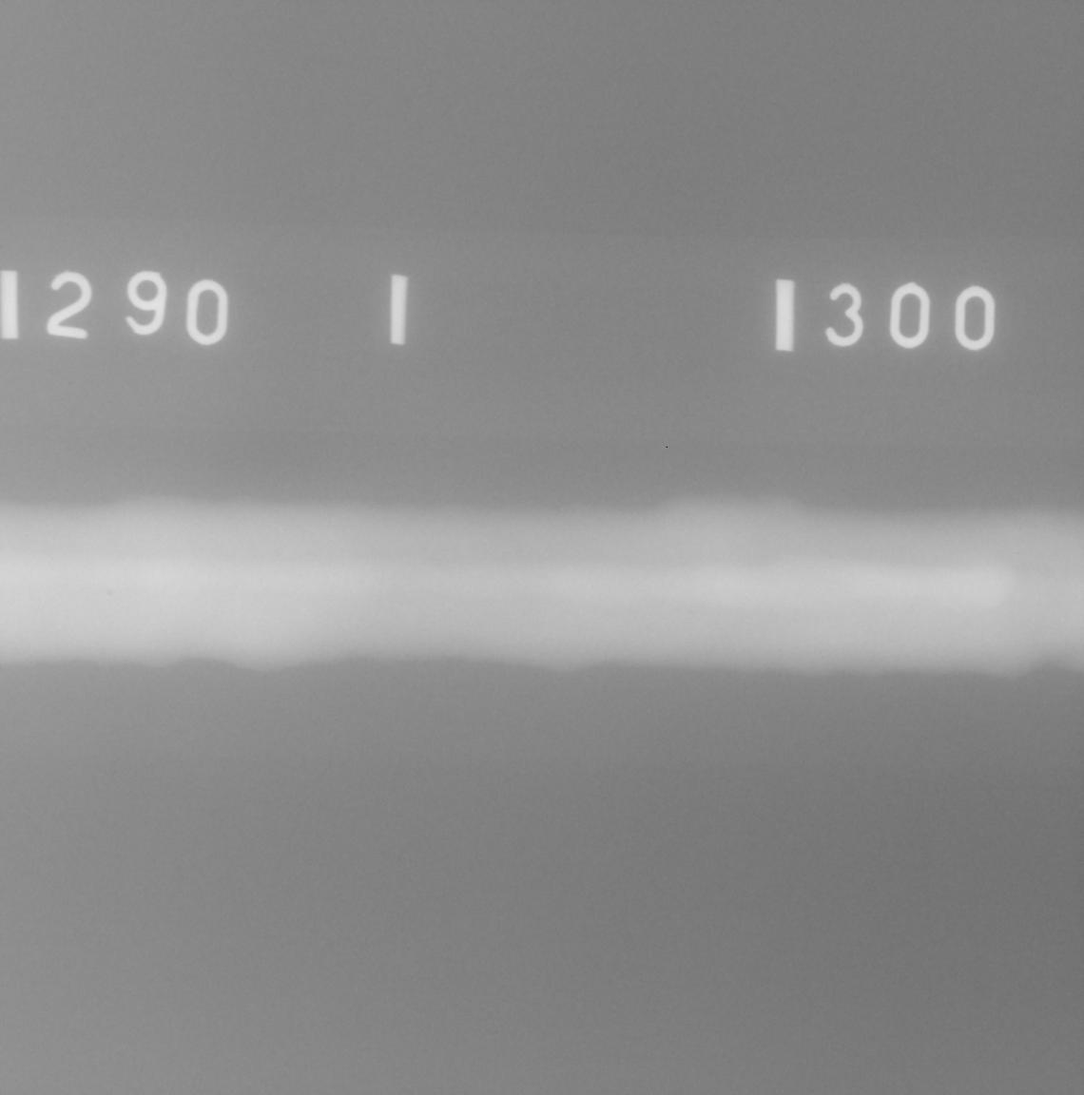Pore/Porosity: (105, 588, 116, 598)
